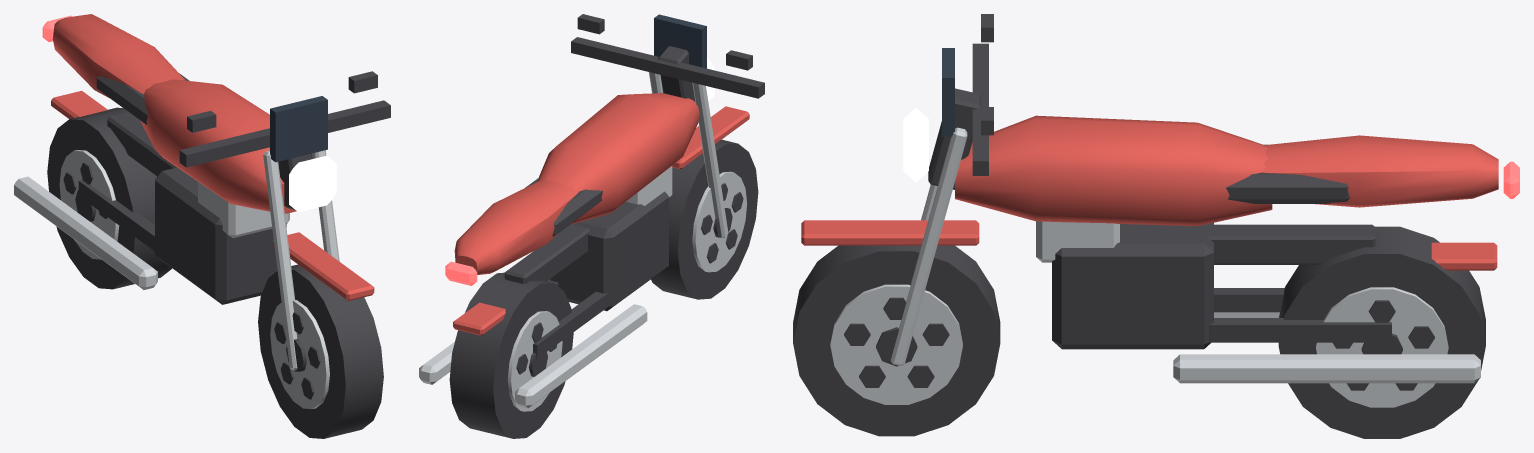
The model's file is vehicle_bike.glb.
The picture shows the model from 3 angles, left to right: view 1: azimuth 30°, elevation 25°; view 2: azimuth 150°, elevation 25°; view 3: azimuth 270°, elevation 25°; orthographic projection. The views are drawn at different scales.
Parts seen in each view (by area): view 1: wheel_FL, wheel_RL, tank, engine, tailcowl, exhaust.001, visor, fork.001, fenderF, bars, headlight, cylinder (+10 smaller); view 2: wheel_RL, tank, wheel_FL, engine, tailcowl, exhaust.001, bars, frame, visor, fork.001, swingarm.001, fenderF (+10 smaller); view 3: wheel_FL, tank, wheel_RL, engine, tailcowl, exhaust, frame, fenderF, swingarm, fork, seat, cylinder (+6 smaller).
Part boxes in pixels (left/top/right/bottom): wheel_FL: left=258, top=264, right=383, bottom=438; wheel_RL: left=47, top=107, right=171, bottom=289; tank: left=140, top=79, right=296, bottom=213; engine: left=155, top=167, right=286, bottom=304; tailcowl: left=52, top=14, right=185, bottom=97; exhaust.001: left=14, top=176, right=157, bottom=289; visor: left=270, top=96, right=327, bottom=162; fork.001: left=263, top=150, right=297, bottom=370; fenderF: left=273, top=232, right=374, bottom=300; bars: left=194, top=104, right=376, bottom=163; headlight: left=289, top=155, right=336, bottom=212; cylinder: left=198, top=181, right=289, bottom=237; wheel_RL: left=449, top=272, right=573, bottom=438; tank: left=538, top=93, right=699, bottom=224; wheel_FL: left=651, top=139, right=758, bottom=299; engine: left=550, top=191, right=668, bottom=311; tailcowl: left=454, top=179, right=578, bottom=274; exhaust.001: left=515, top=304, right=647, bottom=408; bars: left=584, top=40, right=751, bottom=95; frame: left=504, top=224, right=589, bottom=283; visor: left=654, top=14, right=706, bottom=68; fork.001: left=692, top=82, right=728, bottom=238; swingarm.001: left=533, top=292, right=608, bottom=358; fenderF: left=672, top=106, right=749, bottom=169; wheel_FL: left=793, top=245, right=1000, bottom=436; tank: left=955, top=115, right=1272, bottom=226; wheel_RL: left=1278, top=226, right=1485, bottom=438; engine: left=1052, top=222, right=1213, bottom=349; tailcowl: left=1262, top=135, right=1498, bottom=207; exhaust: left=1173, top=354, right=1480, bottom=383; frame: left=1207, top=224, right=1375, bottom=264; fenderF: left=801, top=220, right=979, bottom=245; swingarm: left=1209, top=318, right=1391, bottom=342; fork: left=890, top=127, right=967, bottom=365; seat: left=1226, top=144, right=1349, bottom=203; cylinder: left=1036, top=221, right=1119, bottom=262.
Size of the model in its own units: 0.86 by 1.24 by 2.24.
